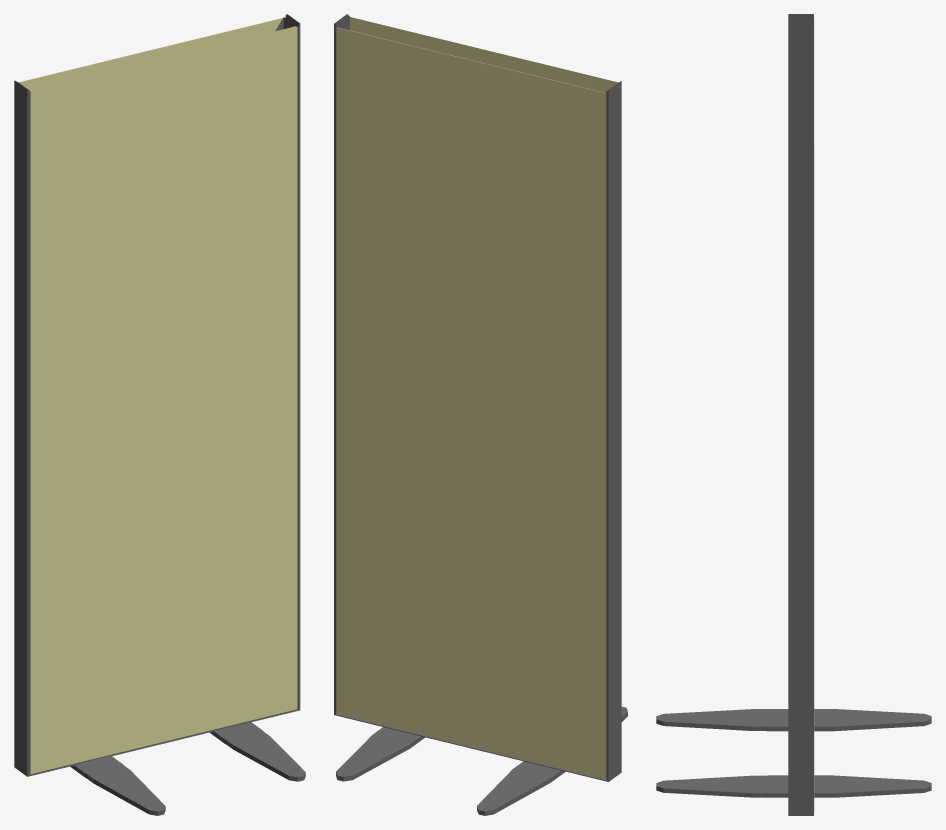
File: Half Panel Half Height.glb
3 views of the same model, side by side, from view 1: azimuth 30°, elevation 25°; view 2: azimuth 150°, elevation 25°; view 3: azimuth 270°, elevation 25° (orthographic). The views are drawn at different scales.
Visible parts, largest first — view 1: Standard 19.001, toggle_feet_center.014, toggle_back_panel.005, toggle_feet_edge.012; view 2: toggle_back_panel.005, Standard 19.001, toggle_feet_center.014; view 3: Standard 19.001, toggle_feet_center.014, toggle_feet_edge.012, toggle_back_panel.005.
Part boxes in pixels (<box>): Standard 19.001: <box>14,14,300,776</box>; toggle_feet_center.014: <box>70,722,298,806</box>; toggle_back_panel.005: <box>18,18,282,90</box>; toggle_feet_edge.012: <box>87,732,305,815</box>; toggle_back_panel.005: <box>336,27,605,779</box>; Standard 19.001: <box>334,14,621,781</box>; toggle_feet_center.014: <box>336,727,565,815</box>; Standard 19.001: <box>788,14,813,815</box>; toggle_feet_center.014: <box>670,709,931,797</box>; toggle_feet_edge.012: <box>656,709,765,797</box>; toggle_back_panel.005: <box>814,18,814,812</box>.
Size of the model in its own units: 0.494 by 1.2 by 0.4418.
